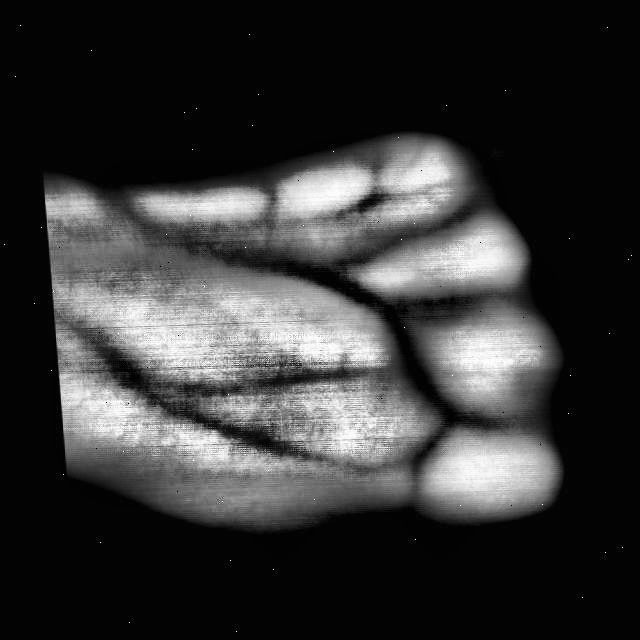Vein: (226, 233, 416, 346)
